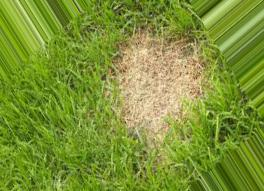patch: (126, 45, 157, 99), (162, 53, 184, 99), (131, 105, 161, 128)
